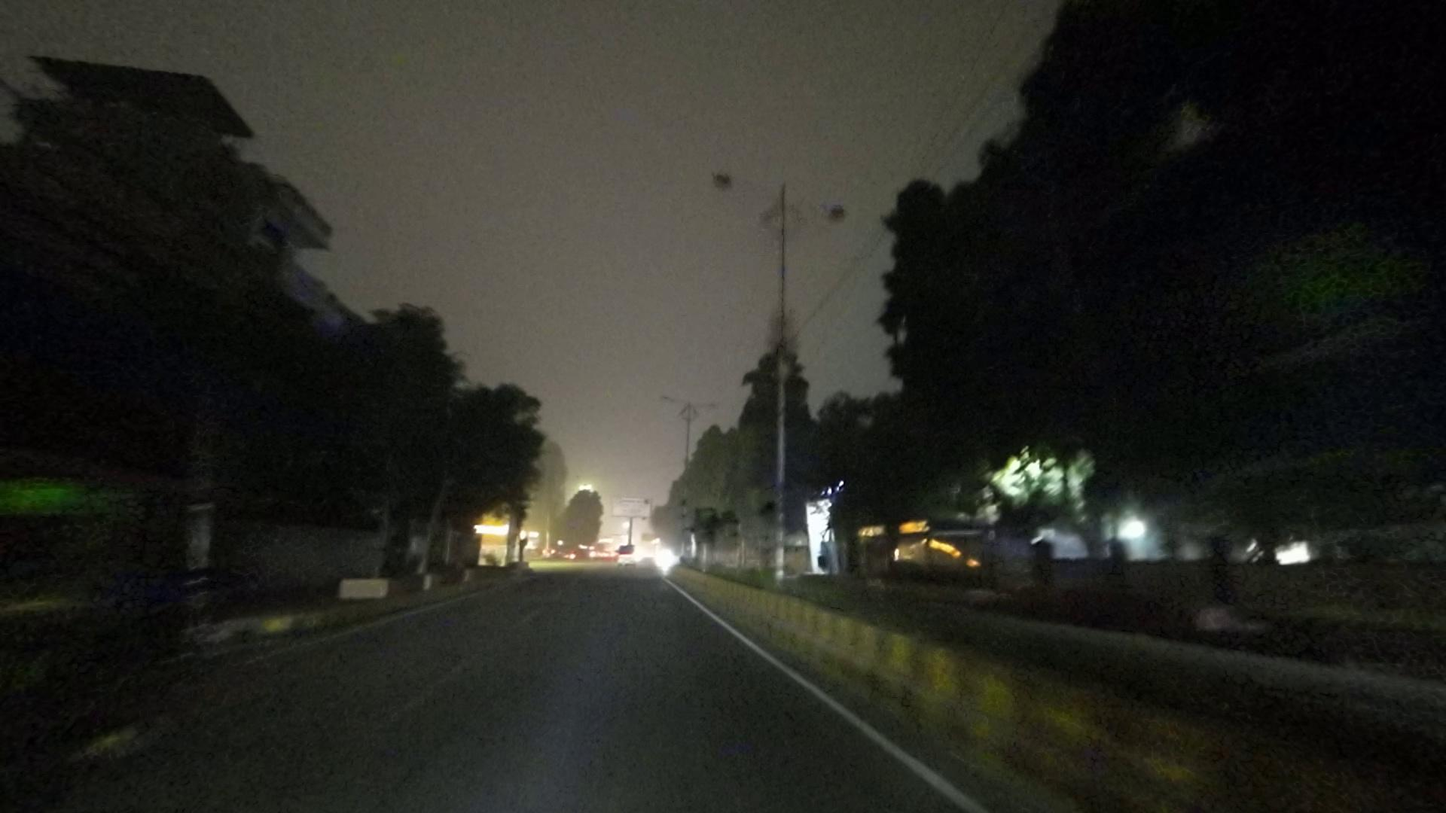streetlight: (710, 171, 774, 199), (796, 195, 850, 224)
